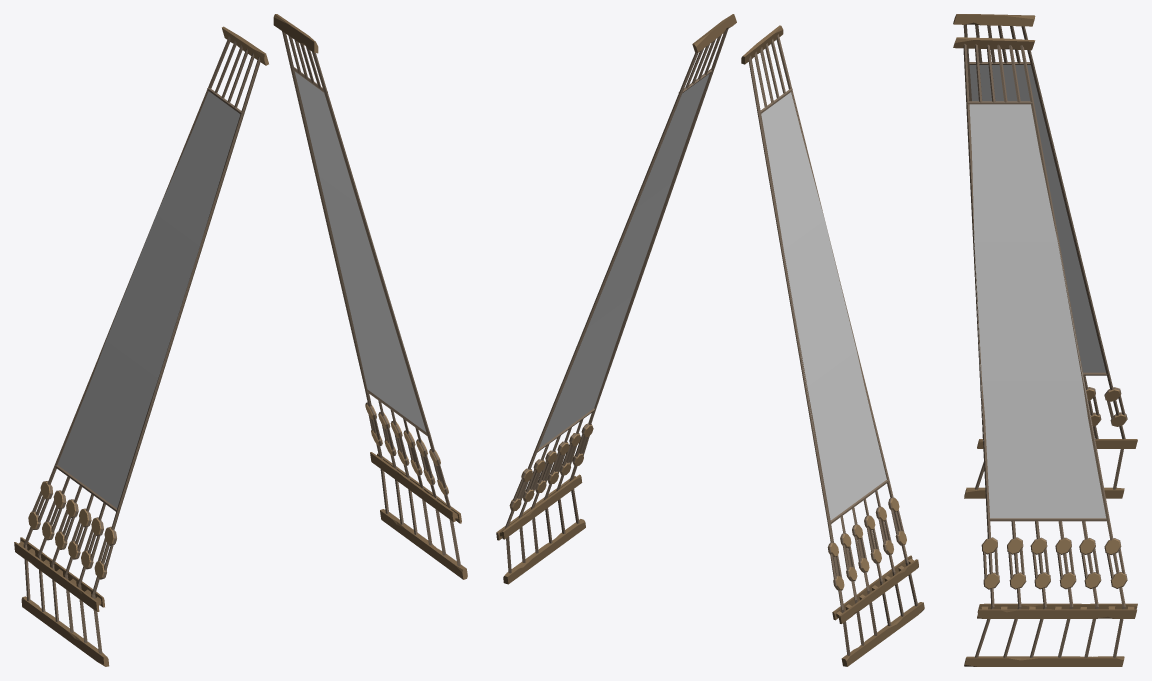
File: SM_Veh_Ship_L_01_Ratlines_Middle_03.fbx
3 views of the same model, side by side, from view 1: azimuth 30°, elevation 25°; view 2: azimuth 150°, elevation 25°; view 3: azimuth 270°, elevation 25° (orthographic). The views are drawn at different scales.
Visible parts, largest first — view 1: SM_Veh_Ship_L_01_Ratlines_Middle_03; view 2: SM_Veh_Ship_L_01_Ratlines_Middle_03; view 3: SM_Veh_Ship_L_01_Ratlines_Middle_03.
Boxes of the visible parts, <box> form: SM_Veh_Ship_L_01_Ratlines_Middle_03: <box>14,14,467,666</box>; SM_Veh_Ship_L_01_Ratlines_Middle_03: <box>496,14,924,666</box>; SM_Veh_Ship_L_01_Ratlines_Middle_03: <box>953,14,1137,666</box>.
Size of the model in its own units: 1022 by 1546 by 466.
